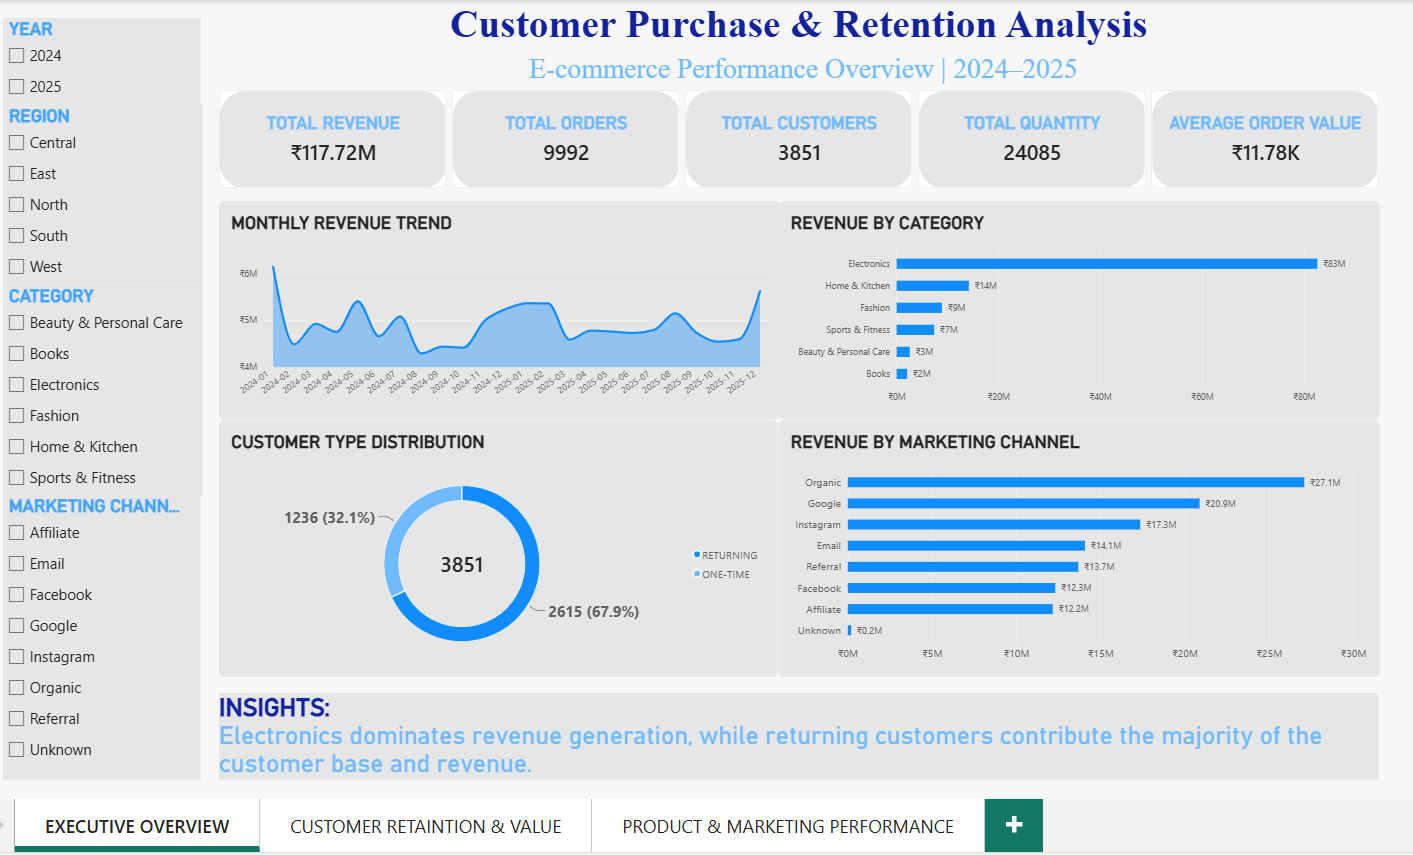

The page's visual inventory and layout, read from the dashboard file:
{"tool":"powerbi","page":{"name":"EXECUTIVE OVERVIEW","canvas":[1920,1080],"ordinal":0},"visuals":[{"type":"textbox","box":[305,2.5,1567.5,110],"z":0},{"type":"textbox","box":[305,70,1567.5,67.5],"z":1000},{"type":"lineChart","title":"MONTHLY REVENUE TREND","fields":{"Category":["Calendar.Year Month"],"Y":["Measures (2).Total Revenue"]},"box":[305,272.5,760,295],"z":2000},{"type":"barChart","title":"REVENUE BY CATEGORY","fields":{"Category":["Products.Category"],"Y":["Measures (2).Total Revenue"]},"box":[1060,272.5,812.5,295],"z":3000},{"type":"barChart","title":"REVENUE BY MARKETING CHANNEL","fields":{"Category":["Transactions.Marketing_Channel"],"Y":["Measures (2).Total Revenue"]},"box":[1060,567.5,812.5,347.5],"z":4000},{"type":"slicer","fields":{"Values":["Calendar.Year"]},"box":[12.5,25,267.5,117.5],"z":5000},{"type":"slicer","fields":{"Values":["Products.Category"]},"box":[12.5,385,270,285],"z":6000},{"type":"slicer","fields":{"Values":["Transactions.Region"]},"box":[12.5,142.5,270,242.5],"z":7000},{"type":"slicer","fields":{"Values":["Transactions.Marketing_Channel"]},"box":[12.5,670,267.5,385],"z":8000},{"type":"textbox","box":[305,937.5,1567.5,117.5],"z":9000},{"type":"donutChart","title":"CUSTOMER TYPE DISTRIBUTION","fields":{"Category":["Customers.Customer Classification"],"Y":["Measures (2).Total Customers"]},"box":[305,567.5,755,347.5],"z":10000},{"type":"cardVisual","fields":{"Data":["Measures (2).Total Revenue","Measures (2).Total Orders","Measures (2).Total Customers","Measures (2).Total Quantity","Measures (2).Average Order Value"]},"box":[305,122.5,1567.5,132.5],"z":11000}]}

Visuals, with their boxes on the page's 1920x1080 design canvas (x1, y1, x2, y2). These are canvas units, not pixel positions in the 1413x855 screenshot, which may show the page scaled, cropped or inside an application window:
textbox: rect(305, 2, 1872, 112)
textbox: rect(305, 70, 1872, 138)
"MONTHLY REVENUE TREND" lineChart: rect(305, 272, 1065, 568)
"REVENUE BY CATEGORY" barChart: rect(1060, 272, 1872, 568)
"REVENUE BY MARKETING CHANNEL" barChart: rect(1060, 568, 1872, 915)
slicer - Calendar.Year: rect(12, 25, 280, 142)
slicer - Products.Category: rect(12, 385, 282, 670)
slicer - Transactions.Region: rect(12, 142, 282, 385)
slicer - Transactions.Marketing_Channel: rect(12, 670, 280, 1055)
textbox: rect(305, 938, 1872, 1055)
"CUSTOMER TYPE DISTRIBUTION" donutChart: rect(305, 568, 1060, 915)
cardVisual - Measures (2).Total Revenue x Measures (2).Total Orders: rect(305, 122, 1872, 255)
